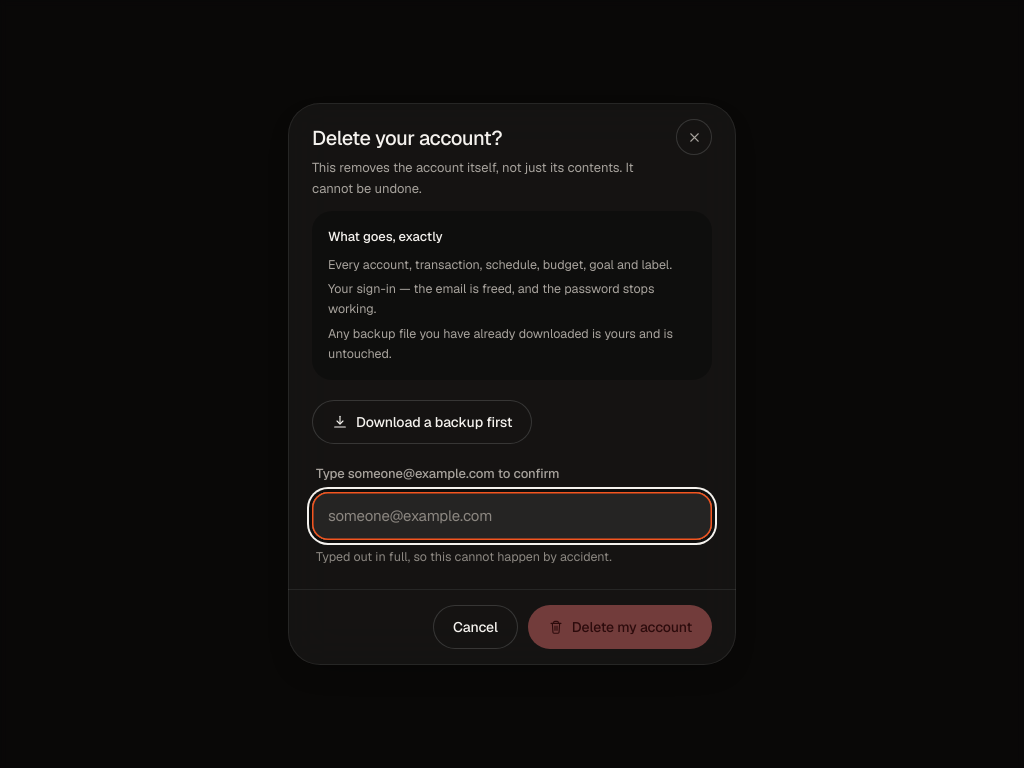
what stops it happening by accident › is not defeated by capitals or a stray space, which are not the point
Type "  SOMEONE@Example.com " into the field labelled "Type someone@example.com to confirm". click: (512, 516)
box: [312, 492, 712, 540]
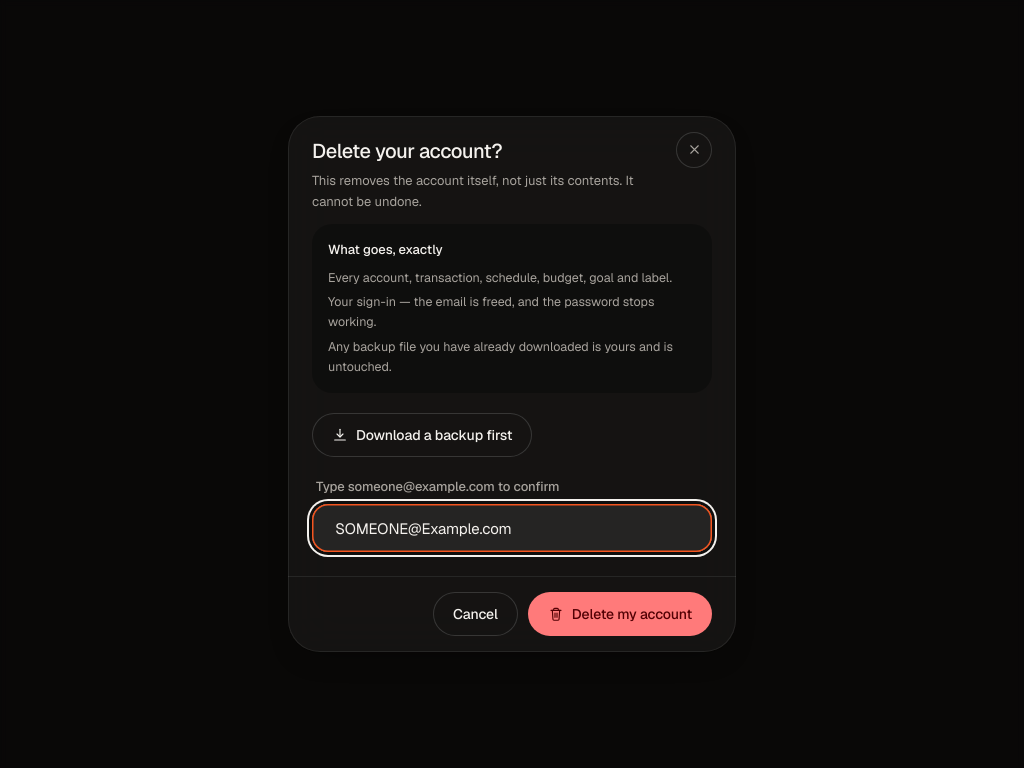
Now the button "Delete my account" is enabled, box [528, 592, 712, 636]
